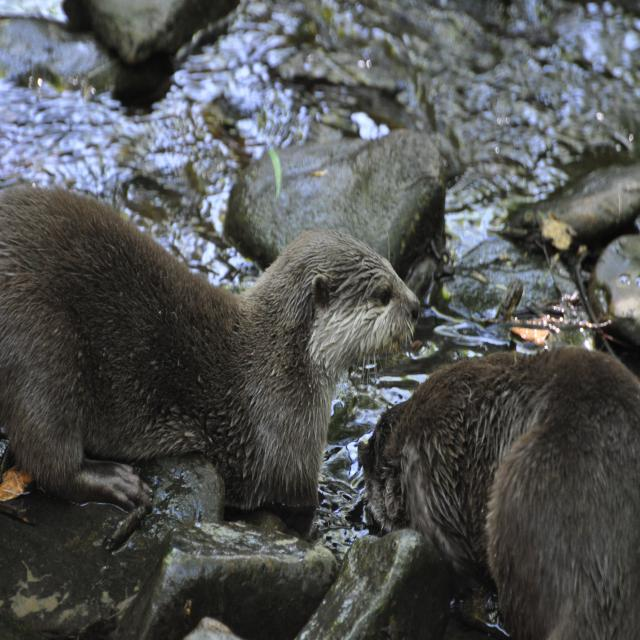otter: (1, 184, 424, 497), (364, 356, 640, 640)
